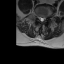CCS_stenosis: (41, 15, 43, 23)
LFS_stenosis: (45, 15, 48, 20)
LLS_normal: (43, 15, 45, 22)
RFS_normal: (37, 14, 39, 21)
RLS_normal: (39, 15, 41, 21)
